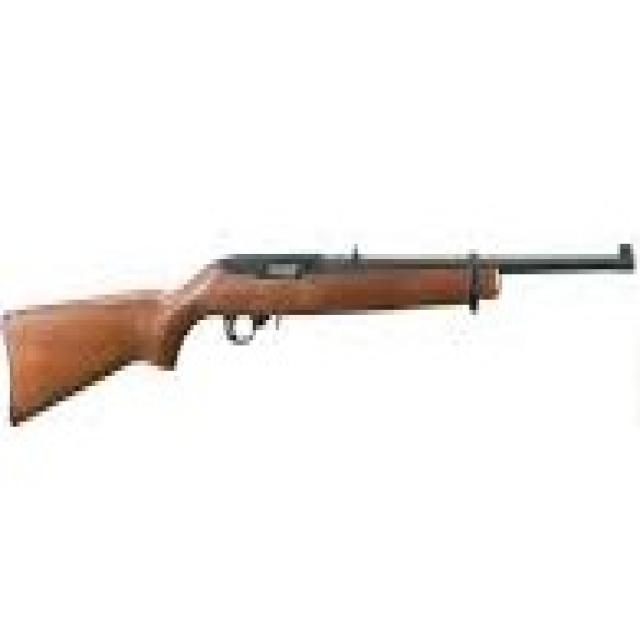rifle: (1, 205, 640, 437)
